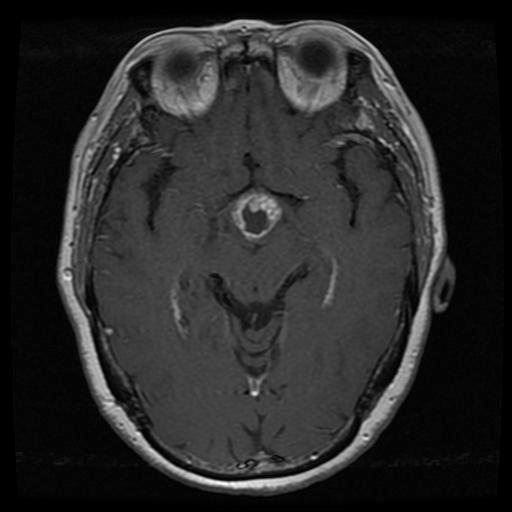Tumour-Pituitary: (227, 189, 291, 243)
